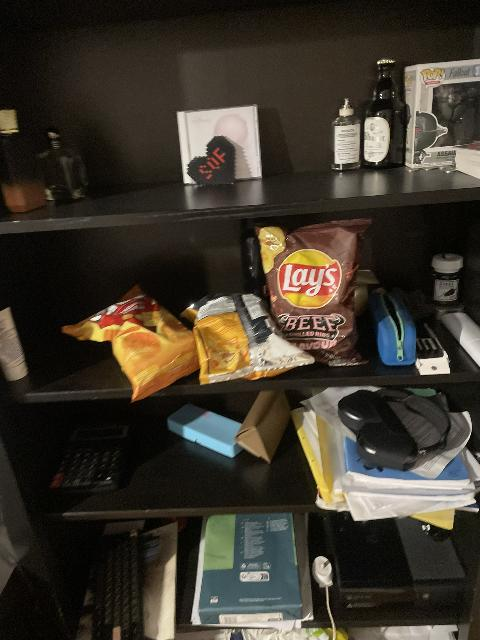Chio Cascaval 125g: (61, 286, 202, 402)
Chio Hula Hoops Cheese 70g: (188, 295, 311, 383)
Lays Beef Grilled Ribs 125g: (259, 219, 359, 359)
